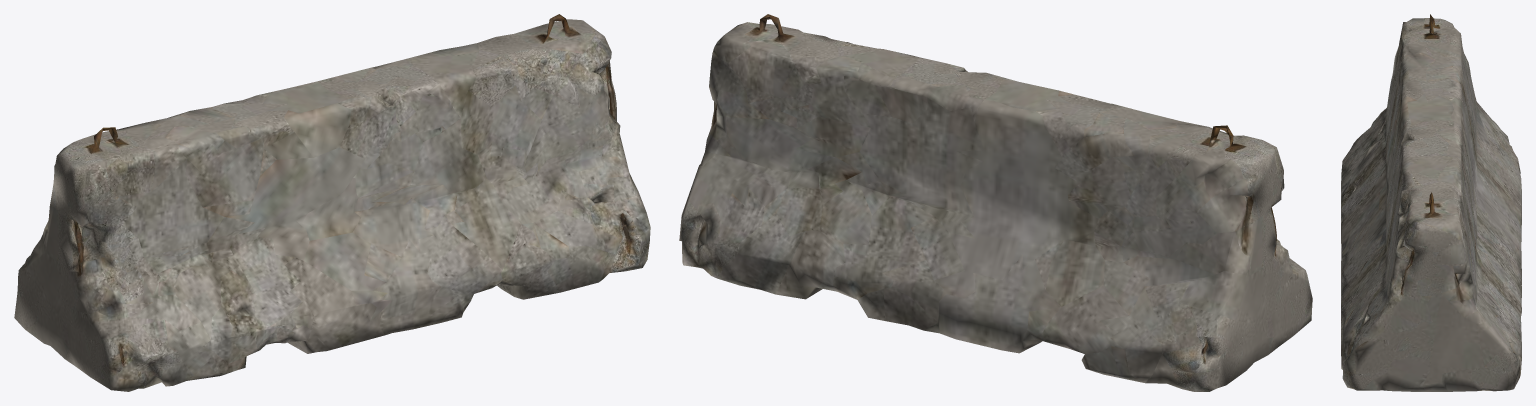
Rendered from concrete_barrier_low.glb.
The picture shows the model from 3 angles, left to right: view 1: azimuth 30°, elevation 25°; view 2: azimuth 150°, elevation 25°; view 3: azimuth 270°, elevation 25°; orthographic projection. The views are drawn at different scales.
Bounding box in the file's own units: 1.9 × 0.7664 × 0.6815.
1 material, 1 textured.
